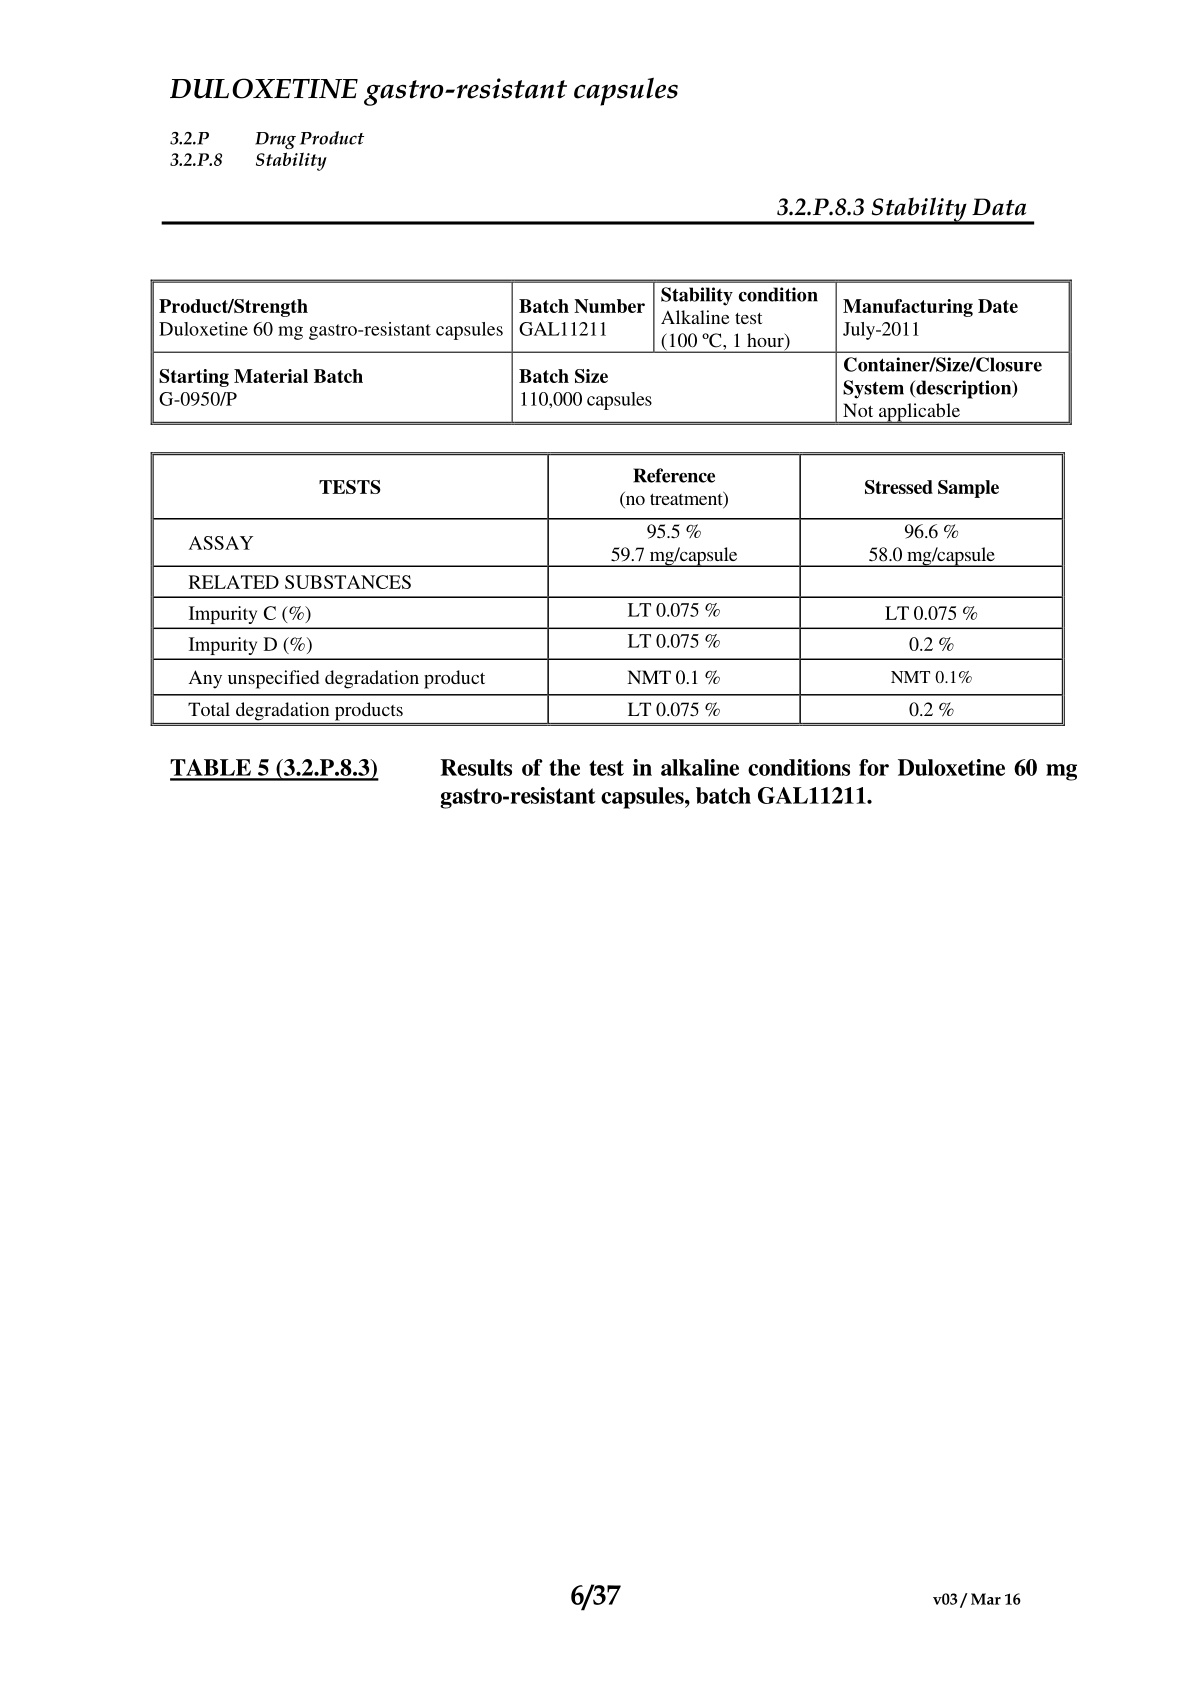full_lined: (150, 451, 1066, 727)
merged_cells: (150, 280, 1072, 426)
